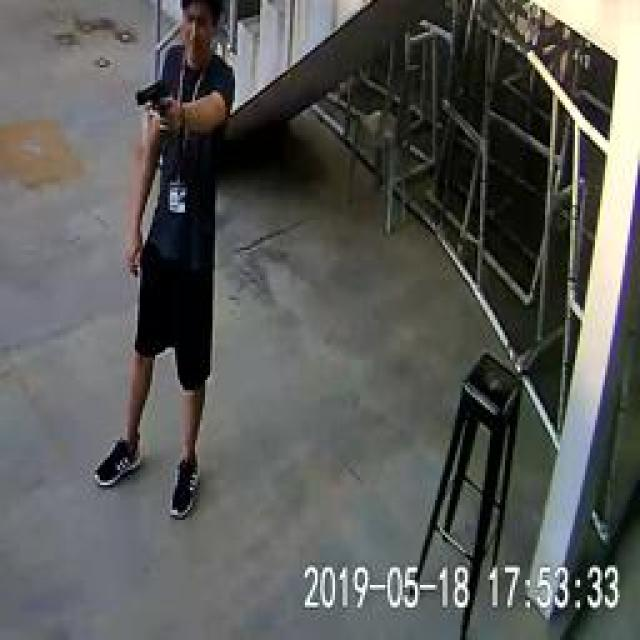Guns: (120, 58, 202, 134)
